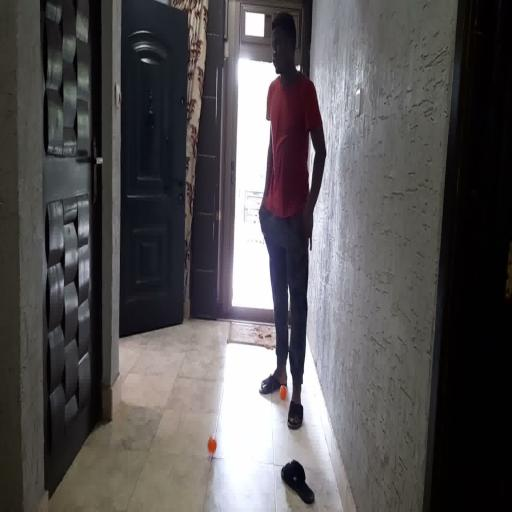plastic-ball: (206, 435, 217, 454)
